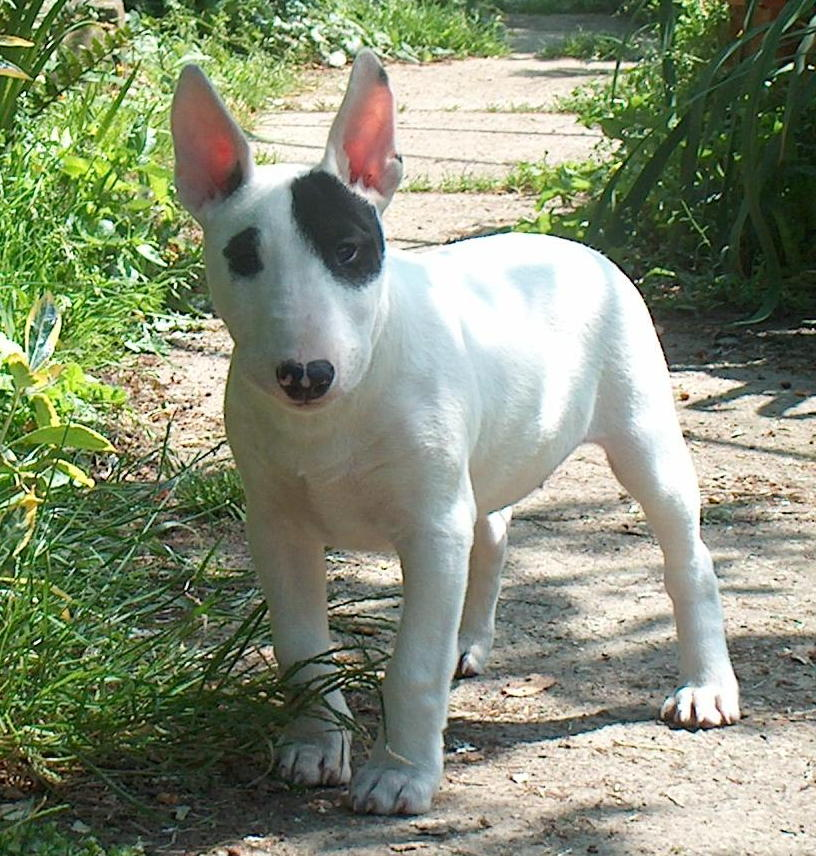bull_terrier: (164, 46, 745, 818)
